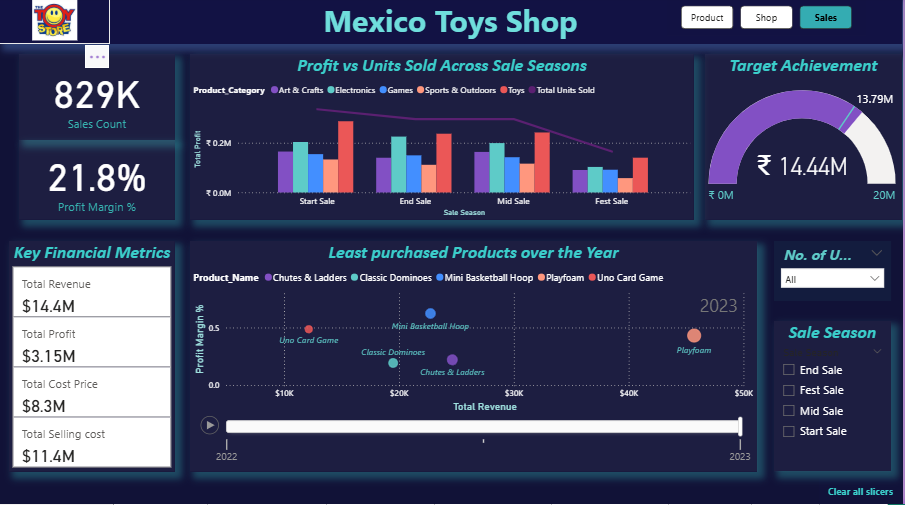

The page's visual inventory and layout, read from the dashboard file:
{"tool":"powerbi","page":{"name":"Sales","canvas":[1280,720],"ordinal":5},"visuals":[{"type":"textbox","box":[0,0,1279.8,68],"z":0},{"type":"actionButton","box":[1162.2,683.1,117.6,36.9],"z":1000},{"type":"pageNavigator","box":[654.8,9.9,398.3,58.1],"z":2000},{"type":"slicer","title":"No. of Units","fields":{"Values":["sales.Units"]},"box":[1054.1,0,198.7,67.7],"z":3000},{"type":"slicer","title":"Sale Season","fields":{"Values":["sales.Sale Season"]},"box":[13,445,169.9,227.5],"z":4000},{"type":"gauge","title":"Target Achievement","fields":{"MaxValue":["Measure Table.Target Revenue"],"Y":["Measure Table.Total Revenue"],"TargetValue":["Measure Table.ParallelPeriod"]},"box":[925.9,82.1,342.7,234.7],"z":5000},{"type":"scatterChart","title":"Least purchased Products over the Year","fields":{"X":["Measure Table.Total Revenue"],"Series":["products.Product_Name"],"Size":["Measure Table.Total Revenue"],"Y":["Measure Table.Profit Margin %"],"Play":["Calendar.Year"]},"box":[191.5,328.3,563,347],"z":6000},{"type":"card","fields":{"Values":["Measure Table.Order Count"]},"box":[11.5,82.1,169.9,99.4],"z":7000},{"type":"cardVisual","title":"Financial Metrics","fields":{"Data":["Measure Table.Total Revenue","Measure Table.Total Profit","Measure Table.Total Cost Price","Measure Table.Total Selling cost"]},"box":[1097.3,328.3,169.9,347],"z":8000},{"type":"card","fields":{"Values":["Measure Table.Profit Margin"]},"box":[11.5,200.2,168.5,100.8],"z":9000},{"type":"lineClusteredColumnComboChart","title":"Profit vs Units Sold Across Sale Seasons","fields":{"Y":["Measure Table.Total Profit"],"Category":["sales.Sale Season"],"Series":["products.Product_Category"],"Y2":["Measure Table.Total Units Sold"]},"box":[191.5,82.1,721.4,234.7],"z":10000},{"type":"image","box":[0,0,157.3,68],"z":11000},{"type":"waterfallChart","title":"Yearly Units Sold Trend","fields":{"Category":["Calendar.Year"],"Y":["Measure Table.Total Units Sold"],"Breakdown":["products.Product_Category"]},"box":[764.6,328.3,322.6,345.6],"z":12000},{"type":"card","fields":{"Values":["Measure Table.Average Sale"]},"box":[13,316.8,168.5,110.9],"z":13000}]}

Visuals, with their boxes in screenshot pixels (x1, y1, x2, y2), scaled from the page's 1280x720 canvas onto the 905x505 screenshot:
textbox: (0,0,904,48)
actionButton: (822,479,904,504)
pageNavigator: (463,7,745,48)
"No. of Units" slicer: (745,0,886,47)
"Sale Season" slicer: (9,312,129,472)
"Target Achievement" gauge: (655,58,897,222)
"Least purchased Products over the Year" scatterChart: (135,230,533,474)
card - Measure Table.Order Count: (8,58,128,127)
"Financial Metrics" cardVisual: (776,230,896,474)
card - Measure Table.Profit Margin: (8,140,127,211)
"Profit vs Units Sold Across Sale Seasons" lineClusteredColumnComboChart: (135,58,645,222)
image: (0,0,111,48)
"Yearly Units Sold Trend" waterfallChart: (541,230,769,473)
card - Measure Table.Average Sale: (9,222,128,300)
